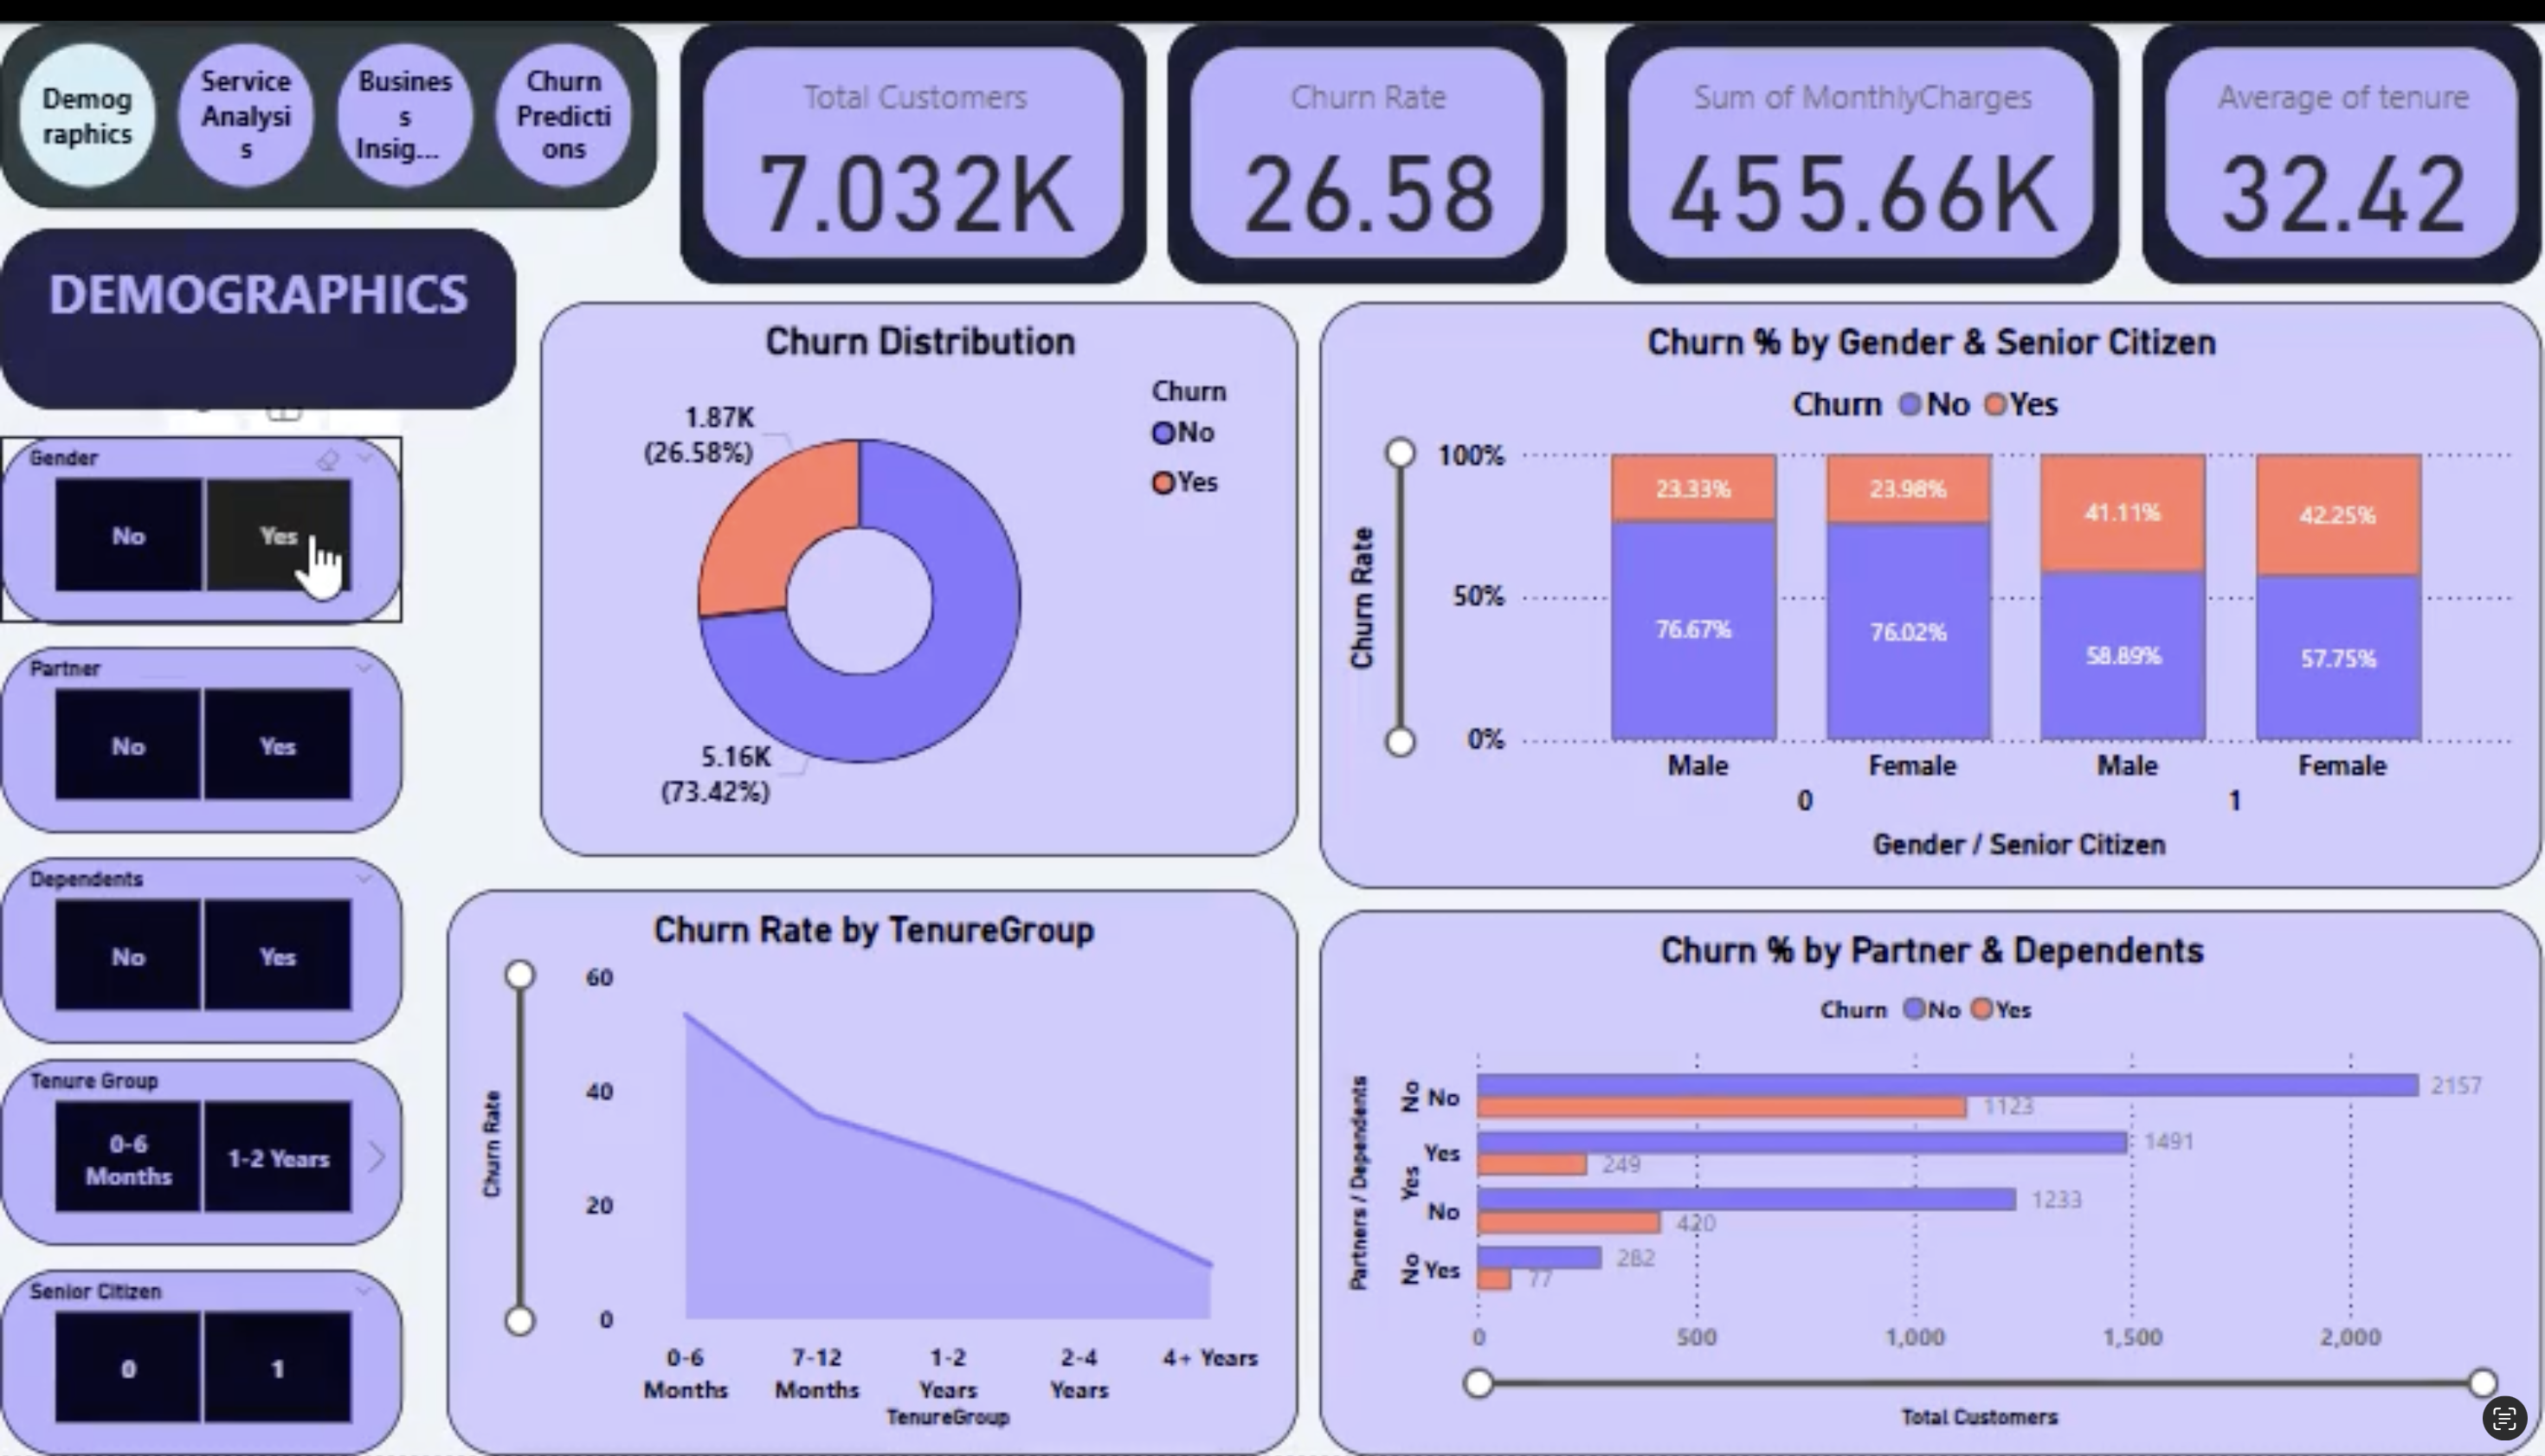

The page's visual inventory and layout, read from the dashboard file:
{"tool":"powerbi","page":{"name":"Demographics","canvas":[1280,720],"ordinal":0},"visuals":[{"type":"slicer","fields":{"Values":["cleaned_telco_churn.PaperlessBilling"]},"box":[0,207.2,202.8,94],"z":0},{"type":"slicer","fields":{"Values":["cleaned_telco_churn.TenureGroup"]},"box":[0,520.2,202.8,94],"z":1000},{"type":"slicer","fields":{"Values":["cleaned_telco_churn.Dependents"]},"box":[0,418.8,202.8,94],"z":2000},{"type":"slicer","fields":{"Values":["cleaned_telco_churn.SeniorCitizen"]},"box":[0,626,202.8,94],"z":3000},{"type":"slicer","fields":{"Values":["cleaned_telco_churn.Partner"]},"box":[0,313,202.8,94],"z":4000},{"type":"cardVisual","fields":{"Data":["CountNonNull(cleaned_telco_churn.customerID)"]},"box":[342.4,0,235.1,130.8],"z":5000},{"type":"cardVisual","fields":{"Data":["Sum(cleaned_telco_churn.MonthlyCharges)"]},"box":[808.2,0,258.6,130.8],"z":6000},{"type":"cardVisual","fields":{"Data":["Avg(cleaned_telco_churn.tenure)"]},"box":[1078.5,0,201.3,130.8],"z":7000},{"type":"cardVisual","fields":{"Data":["cleaned_telco_churn.Churn Rate"]},"box":[587.8,0,201.3,130.8],"z":8000},{"type":"donutChart","title":"Churn Distribution","fields":{"Y":["CountNonNull(cleaned_telco_churn.customerID)"],"Category":["cleaned_telco_churn.Churn"]},"box":[271.8,139.6,382,279.2],"z":9000},{"type":"hundredPercentStackedColumnChart","title":"Churn % by Gender & Senior Citizen","fields":{"Series":["cleaned_telco_churn.Churn"],"Category":["cleaned_telco_churn.SeniorCitizen","cleaned_telco_churn.gender"],"Y":["CountNonNull(cleaned_telco_churn.customerID)"]},"box":[664.2,139.6,615.7,295.3],"z":10000},{"type":"clusteredBarChart","title":"Churn % by Partner & Dependents","fields":{"Y":["CountNonNull(cleaned_telco_churn.customerID)"],"Category":["cleaned_telco_churn.Partner","cleaned_telco_churn.Dependents"],"Series":["cleaned_telco_churn.Churn"]},"box":[664.2,445.2,615.7,274.8],"z":11000},{"type":"areaChart","fields":{"Category":["cleaned_telco_churn.TenureGroup"],"Y":["cleaned_telco_churn.Churn Rate"]},"box":[224.8,434.9,429.1,285.1],"z":12000},{"type":"textbox","box":[0,102.9,260.1,91.1],"z":12001},{"type":"pageNavigator","box":[0,0,330.6,92.6],"z":12002}]}

Visuals, with their boxes in screenshot pixels (x1, y1, x2, y2), scaled from the page's 1280x720 canvas onto the 2545x1456 screenshot:
slicer - cleaned_telco_churn.PaperlessBilling: 0/419/403/609
slicer - cleaned_telco_churn.TenureGroup: 0/1052/403/1242
slicer - cleaned_telco_churn.Dependents: 0/847/403/1037
slicer - cleaned_telco_churn.SeniorCitizen: 0/1266/403/1455
slicer - cleaned_telco_churn.Partner: 0/633/403/823
cardVisual - CountNonNull(cleaned_telco_churn.customerID): 680/0/1148/265
cardVisual - Sum(cleaned_telco_churn.MonthlyCharges): 1607/0/2121/265
cardVisual - Avg(cleaned_telco_churn.tenure): 2144/0/2544/265
cardVisual - cleaned_telco_churn.Churn Rate: 1169/0/1569/265
"Churn Distribution" donutChart: 540/282/1300/847
"Churn % by Gender & Senior Citizen" hundredPercentStackedColumnChart: 1321/282/2544/879
"Churn % by Partner & Dependents" clusteredBarChart: 1321/900/2544/1455
areaChart - cleaned_telco_churn.TenureGroup x cleaned_telco_churn.Churn Rate: 447/879/1300/1455
textbox: 0/208/517/392
pageNavigator: 0/0/657/187
